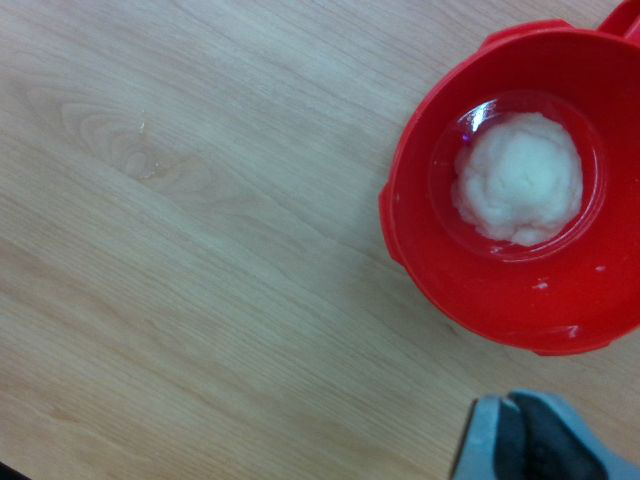mashed_potato: (454, 112, 584, 246)
